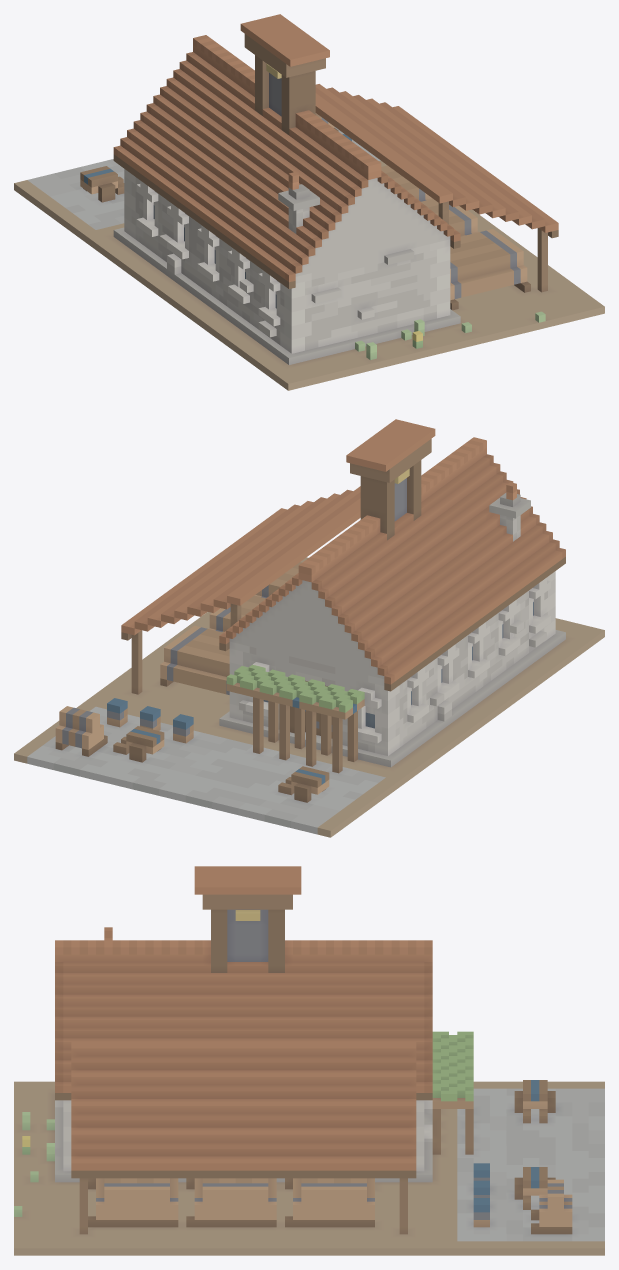
Rendered from winepress.glb.
3 renders of one model, top to bottom at view 1: azimuth 30°, elevation 25°; view 2: azimuth 150°, elevation 25°; view 3: azimuth 270°, elevation 25°, orthographic. The views are drawn at different scales.
Parts seen in each view (by area): view 1: winepress; view 2: winepress; view 3: winepress.
Part boxes in pixels (bbox=[...]): winepress: bbox=[14, 14, 604, 390]; winepress: bbox=[14, 419, 604, 837]; winepress: bbox=[14, 866, 604, 1255].
Size of the model in its own units: 6 by 4.5 by 9.
